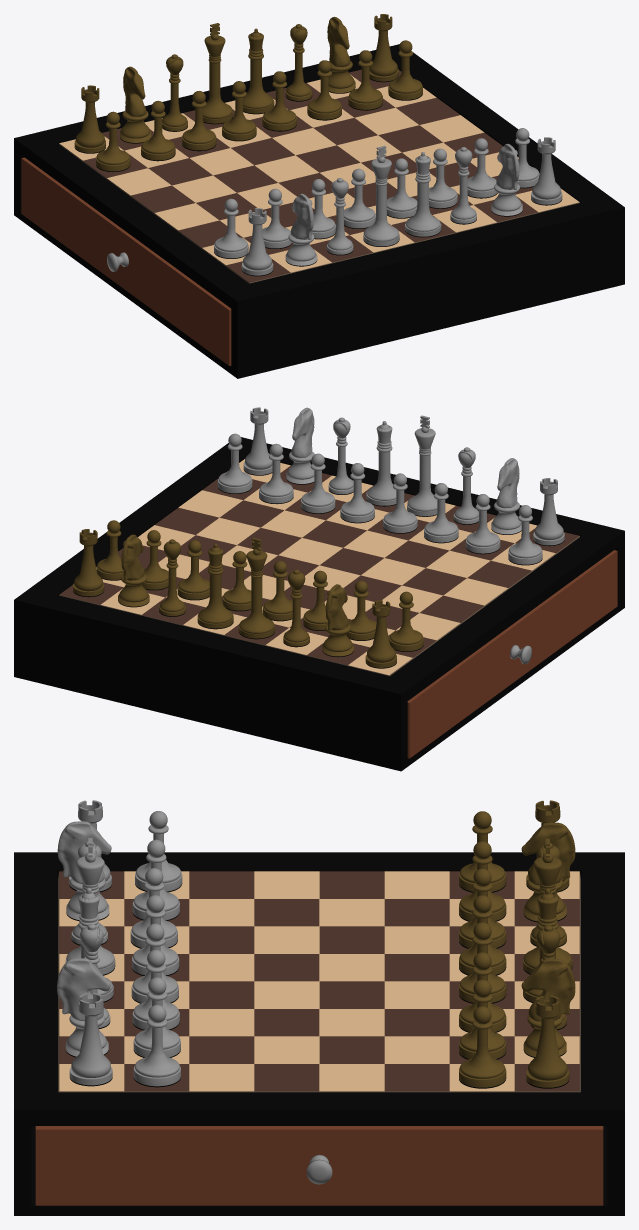
File: Chess.glb
The picture shows the model from 3 angles, top to bottom: view 1: azimuth 30°, elevation 25°; view 2: azimuth 150°, elevation 25°; view 3: azimuth 270°, elevation 25°; orthographic projection. The views are drawn at different scales.
Parts seen in each view (by area): view 1: Board, WhiteDrawer, WhiteKing, RightBlackKnight, BlackKing, RightWhiteKnight, LeftWhiteKnight, LeftBlackKnight, WhiteQueen, BlackQueen, LeftWhiteRook, RightWhiteRook (+22 smaller); view 2: Board, WhiteDrawer, BlackKing, LeftWhiteKnight, WhiteKing, RightWhiteKnight, LeftBlackKnight, RightBlackKnight, BlackQueen, WhiteQueen, RightBlackRook, LeftBlackRook (+22 smaller); view 3: Board, BlackDrawer, RightWhiteKnight, LeftBlackKnight, LeftBlackRook, RightWhiteRook, LeftWhiteKnight, RightBlackKnight, BlackPawnH, WhitePawnH, WhiteKing, BlackKing (+20 smaller).
Boxes of the visible parts, x1,y1,x2,y2 form: Board: (14,44,624,378); WhiteDrawer: (21,157,231,365); WhiteKing: (363,145,399,246); RightBlackKnight: (120,66,151,143); BlackKing: (203,23,232,124); RightWhiteKnight: (491,143,522,216); LeftWhiteKnight: (285,193,317,266); LeftBlackKnight: (327,16,355,93); WhiteQueen: (405,152,441,237); BlackQueen: (243,28,274,114); LeftWhiteRook: (241,208,273,276); RightWhiteRook: (531,137,562,205); Board: (14,437,624,771); WhiteDrawer: (407,550,617,758); BlackKing: (238,538,274,639); LeftWhiteKnight: (491,458,521,534); WhiteKing: (407,415,437,516); RightWhiteKnight: (286,407,314,484); LeftBlackKnight: (118,534,149,607); RightBlackKnight: (322,584,353,657); BlackQueen: (197,543,233,629); WhiteQueen: (366,421,396,506); RightBlackRook: (365,600,396,668); LeftBlackRook: (73,529,104,597); Board: (14,852,624,1215); BlackDrawer: (35,1126,603,1205); RightWhiteKnight: (57,958,110,1057); LeftBlackKnight: (521,958,575,1057); LeftBlackRook: (526,995,569,1088); RightWhiteRook: (69,993,112,1086); LeftWhiteKnight: (57,821,111,920); RightBlackKnight: (521,822,575,922); BlackPawnH: (459,1006,506,1088); WhitePawnH: (133,1004,180,1087); WhiteKing: (65,838,115,975); BlackKing: (523,838,572,974).
Bounding box in the file's own units: 30.59 × 11.91 × 28.4.
